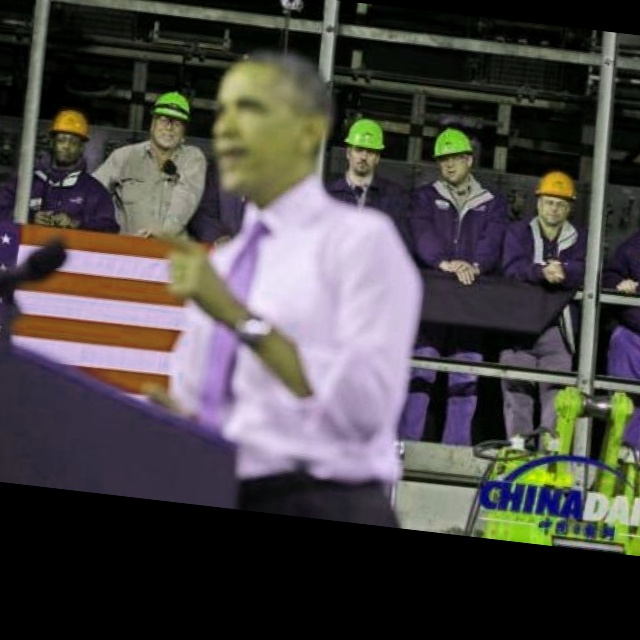Con_Casco: (144, 87, 194, 150), (45, 107, 96, 166), (341, 116, 386, 177)
